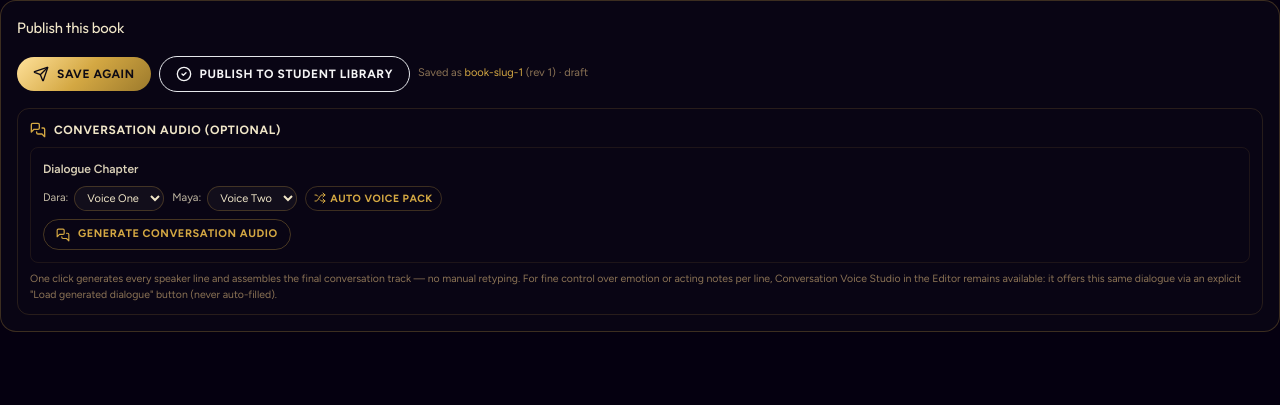
blocks generation and shows an error when a speaker has no voice assigned
The image size is (1280, 405).
Check: the element with test id "bf-conversation-panel" is shown, box [17,108,1263,315]
Step 1. Select "" in the dropdown with test id "bf-conversation-voice-c1-Dara" → (119, 198), box [74,186,164,211]
Step 2. Click the button with test id "bf-generate-conversation-c1" → (167, 235), box [43,219,291,250]
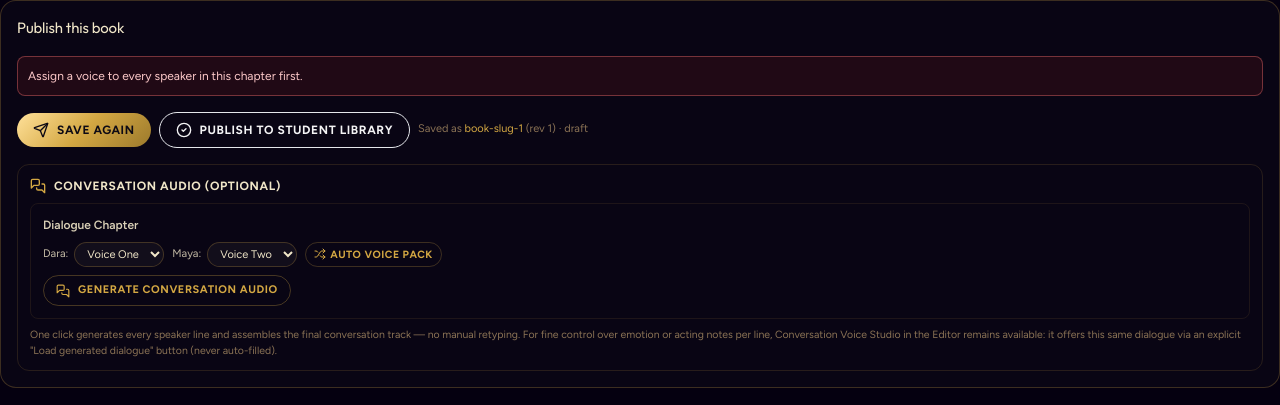
Check: the text with test id "bf-publish-flow-error" shows "Assign a voice to every speaker", box [28,68,302,82]
